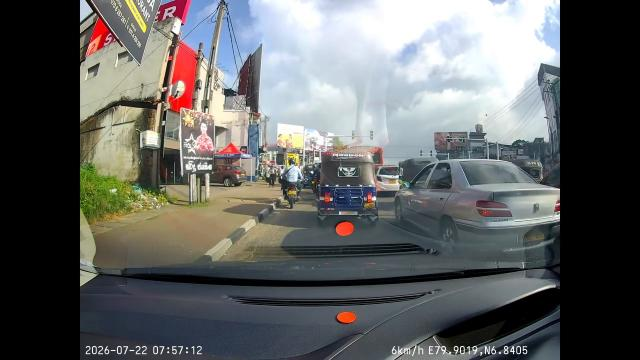number plate: (363, 202, 383, 214)
